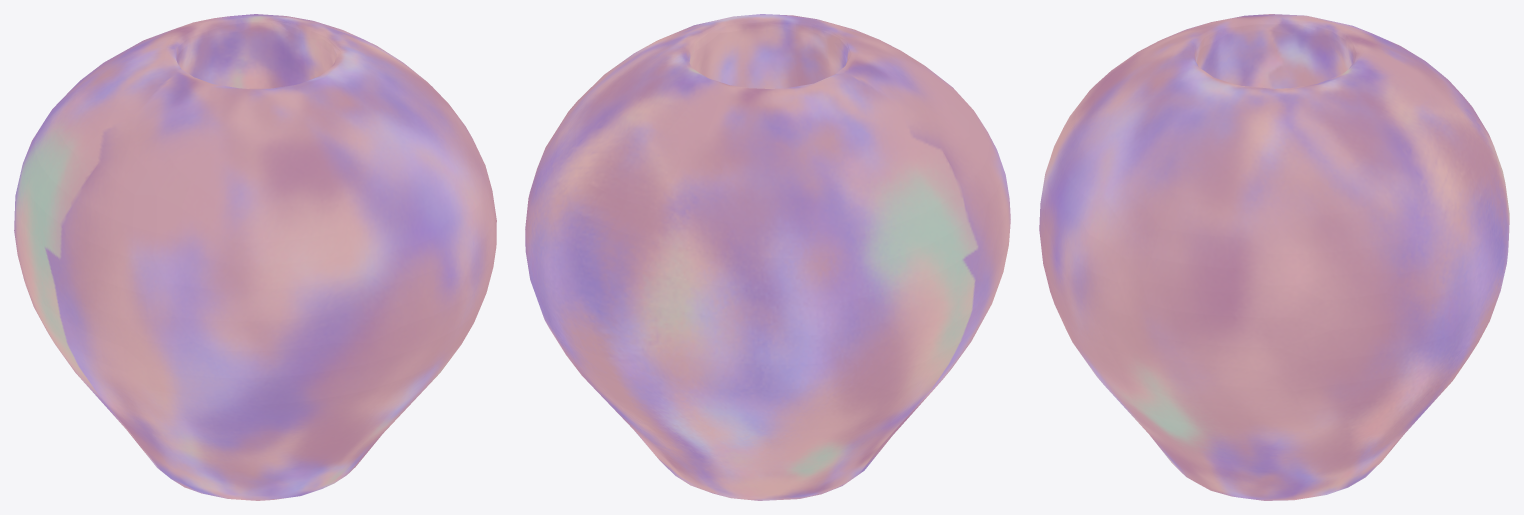
Rendered from Archi6.fbx.
3 views of the same model, side by side, from view 1: azimuth 30°, elevation 25°; view 2: azimuth 150°, elevation 25°; view 3: azimuth 270°, elevation 25° (orthographic).
Visible parts, largest first — view 1: Archi6; view 2: Archi6; view 3: Archi6.
Part boxes in pixels (<box>): Archi6: <box>14,14,496,500</box>; Archi6: <box>525,14,1010,500</box>; Archi6: <box>1039,14,1509,500</box>.
Size of the model in its own units: 15.59 by 15.59 by 15.
Materials: 1 (1 with a texture image).
